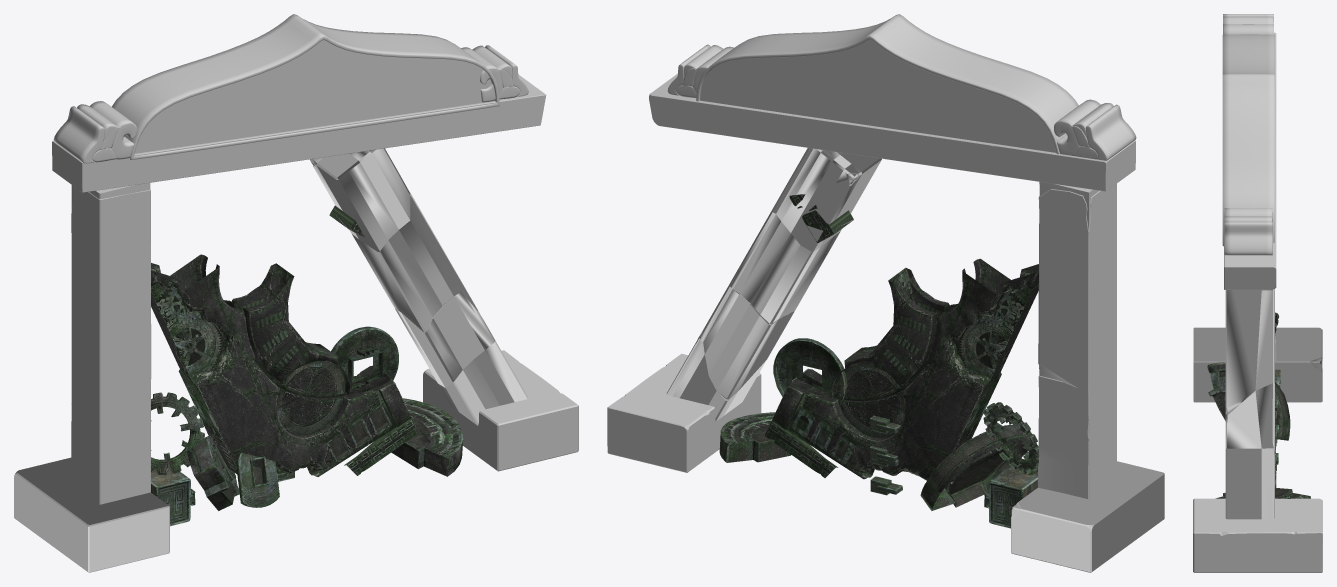
3 views of the same model, side by side, from view 1: azimuth 30°, elevation 25°; view 2: azimuth 150°, elevation 25°; view 3: azimuth 270°, elevation 25° (orthographic). The views are drawn at different scales.
Parts seen in each view (by area): view 1: Box635, big ga574, Line204, Box634, Box633, Line205, big ga568, big ga563, big ga567, big ga564, big ga565, Line202 (+3 smaller); view 2: Box635, big ga574, Line204, Box634, Box633, Line205, big ga563, big ga567, big ga568, big ga564, big ga569, Line202 (+1 smaller); view 3: Box634, Box635, Line205, Box633, Line209, big ga563, Line203, Line210, Line200, big ga568, Line207.
Boxes of the visible parts, bbox=[...] form: Box635: bbox=[71, 148, 528, 504]; big ga574: bbox=[151, 205, 418, 476]; Line204: bbox=[127, 40, 493, 153]; Box634: bbox=[14, 350, 578, 572]; Box633: bbox=[52, 74, 546, 192]; Line205: bbox=[112, 14, 499, 159]; big ga568: bbox=[391, 398, 463, 476]; big ga563: bbox=[187, 435, 239, 510]; big ga567: bbox=[331, 326, 398, 389]; big ga564: bbox=[151, 392, 204, 475]; big ga565: bbox=[236, 453, 279, 507]; Line202: bbox=[53, 106, 104, 163]; Box635: bbox=[666, 148, 1116, 499]; big ga574: bbox=[765, 194, 1038, 480]; Line204: bbox=[700, 39, 1063, 152]; Box634: bbox=[607, 353, 1164, 572]; Box633: bbox=[649, 73, 1135, 191]; Line205: bbox=[696, 14, 1078, 154]; big ga563: bbox=[920, 424, 1027, 510]; big ga567: bbox=[773, 338, 846, 407]; big ga568: bbox=[719, 412, 790, 462]; big ga564: bbox=[983, 402, 1038, 474]; big ga569: bbox=[984, 466, 1037, 528]; Line202: bbox=[1085, 104, 1136, 160]; Box634: bbox=[1193, 327, 1322, 572]; Box635: bbox=[1225, 289, 1276, 519]; Line205: bbox=[1222, 34, 1274, 246]; Box633: bbox=[1224, 32, 1276, 289]; Line209: bbox=[1224, 222, 1272, 255]; big ga563: bbox=[1207, 362, 1290, 440]; Line203: bbox=[1223, 24, 1273, 34]; Line210: bbox=[1224, 208, 1272, 217]; Line200: bbox=[1223, 17, 1273, 24]; big ga568: bbox=[1215, 488, 1310, 498]; Line207: bbox=[1224, 216, 1272, 222].
Size of the model in its own units: 85.3 by 77.08 by 22.64.
